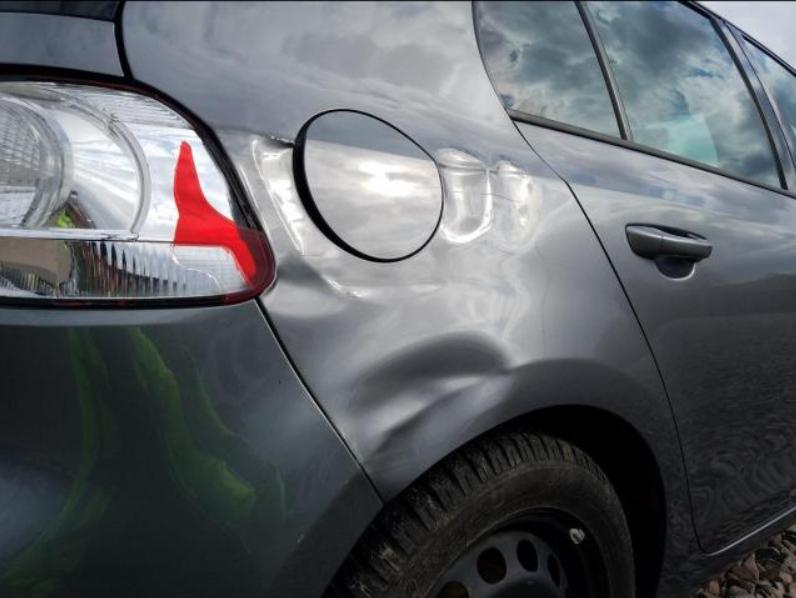Back-bumper: (0, 301, 381, 597)
Back-door: (469, 0, 795, 551)
Back-wheel: (320, 431, 637, 597)
Back-window: (589, 1, 787, 192), (481, 0, 619, 137)
Front-door: (729, 24, 795, 162)
Front-window: (742, 36, 795, 161)
Quarter-panel: (121, 0, 703, 578)
Rocker-panel: (656, 507, 795, 597)
Tail-light: (0, 71, 270, 307)
Trunk: (0, 0, 125, 86)
